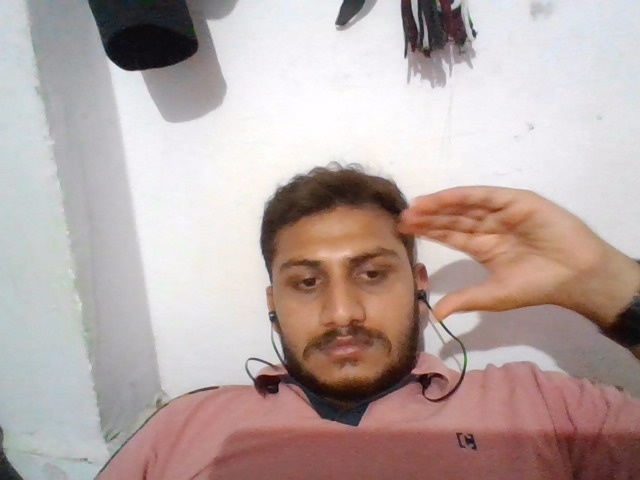No: (389, 181, 580, 335)
